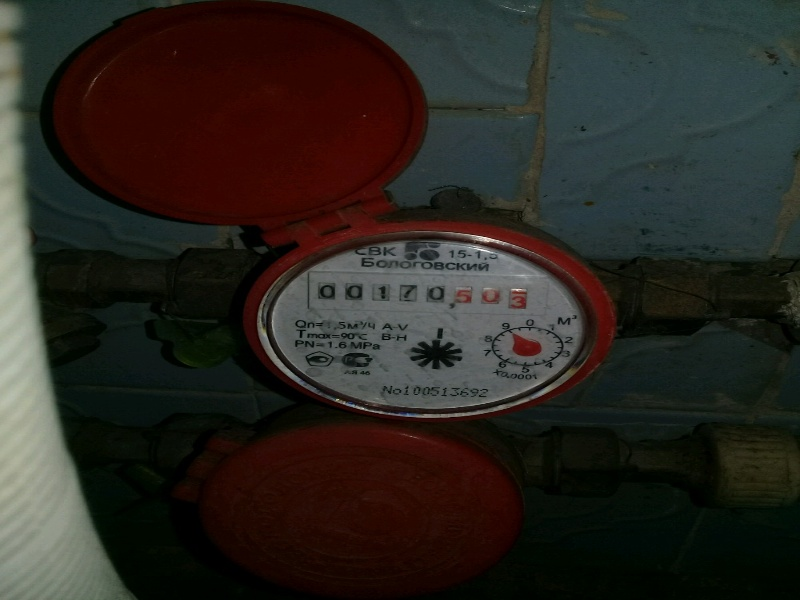meter: (307, 276, 531, 315)
